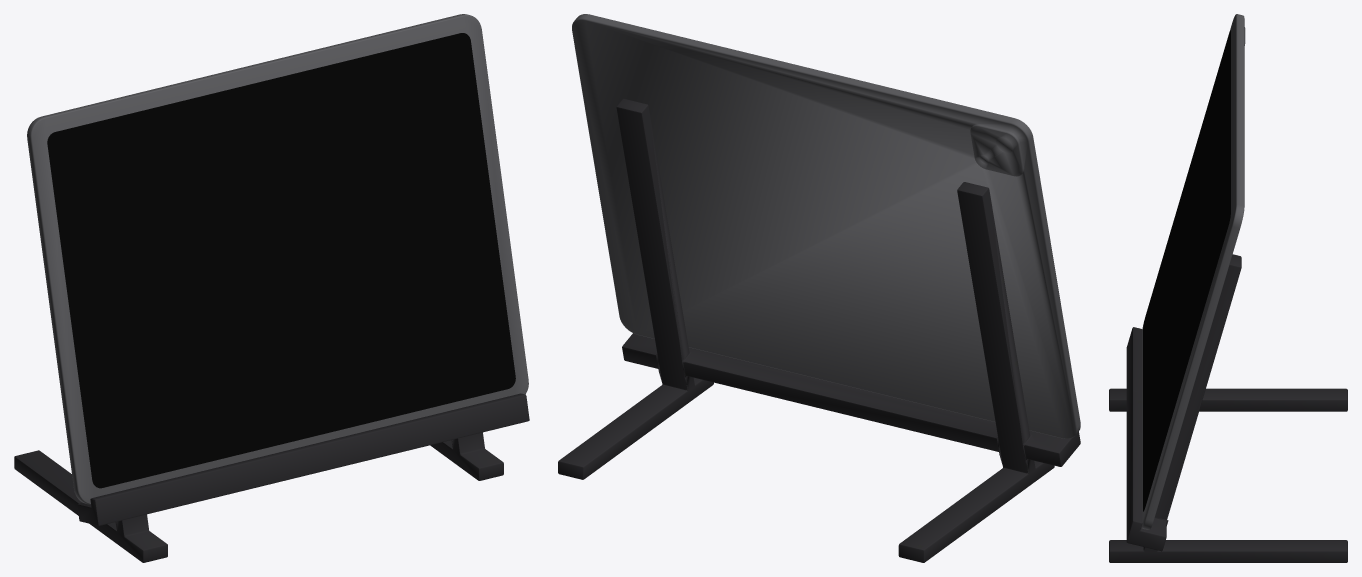
File: sonde.glb
3 views of the same model, side by side, from view 1: azimuth 30°, elevation 25°; view 2: azimuth 150°, elevation 25°; view 3: azimuth 270°, elevation 25° (orthographic). The views are drawn at different scales.
Visible parts, largest first — view 1: screen, tablet, easel; view 2: tablet, easel; view 3: screen, easel, tablet.
Part boxes in pixels (x1,y1,x2,y2): screen: (47,33,515,488); tablet: (27,14,528,504); easel: (14,393,529,562); tablet: (572,14,1080,438); easel: (558,99,1080,562); screen: (1143,31,1230,511); easel: (1109,254,1347,562); tablet: (1141,14,1245,529).
Bounding box in the file's own units: 0.2821 × 0.2405 × 0.14.
Materials: 3 (1 with a texture image).
